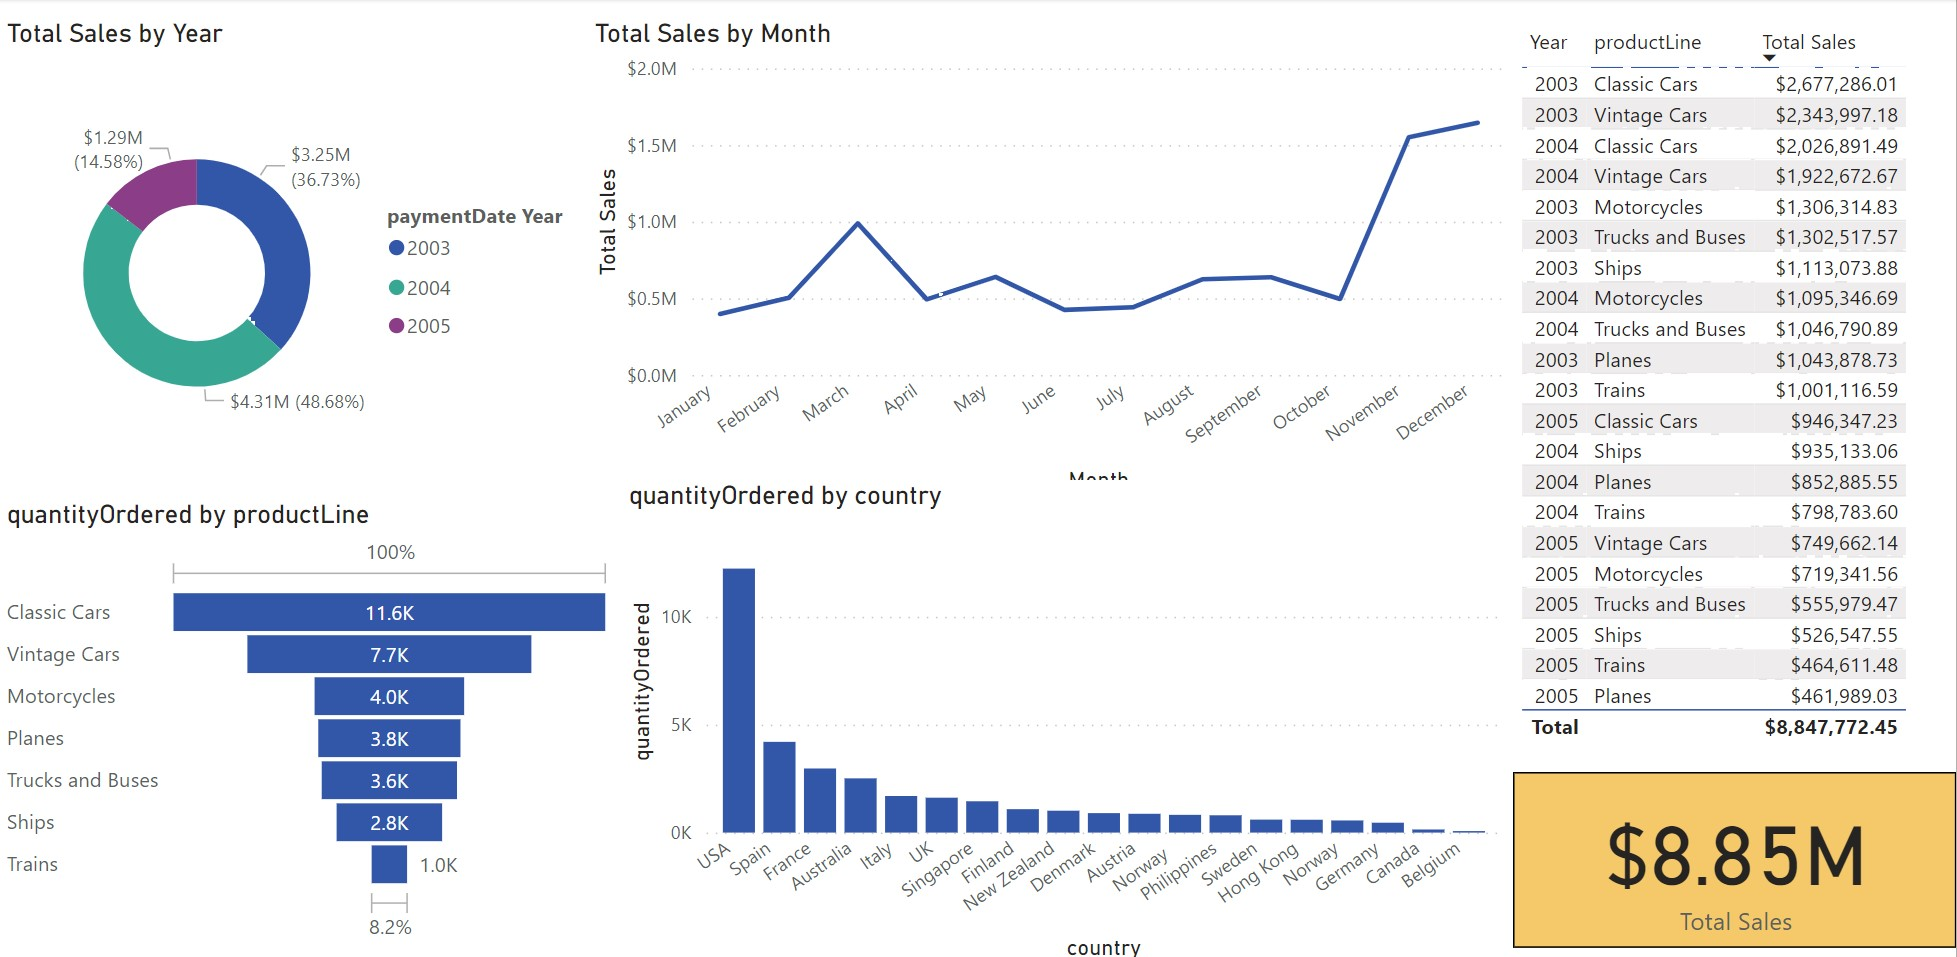

This screenshot's page, from the dashboard's own definition file:
{"tool":"powerbi","page":{"name":"Page 1","canvas":[1280,720],"ordinal":0},"visuals":[{"type":"donutChart","fields":{"Category":["payment.paymentDate.Variation.Date Hierarchy.Year","payment.paymentDate.Variation.Date Hierarchy.Quarter","payment.paymentDate.Variation.Date Hierarchy.Month","payment.paymentDate.Variation.Date Hierarchy.Day"],"Y":["Sum(payment.amount)"]},"box":[0,12.4,381.8,314.5],"z":0},{"type":"lineChart","fields":{"Category":["payment.paymentDate.Variation.Date Hierarchy.Month"],"Y":["Sum(payment.amount)"]},"box":[384.5,12.4,605.7,314.5],"z":1000},{"type":"tableEx","fields":{"Values":["payment.paymentDate.Variation.Date Hierarchy.Year","products.productLine","Sum(payment.amount)"]},"box":[990.2,12.4,289.8,512.3],"z":2000},{"type":"funnel","fields":{"Category":["products.productLine"],"Y":["Sum(ordersdetails.quantityOrdered)"]},"box":[0,326.9,406.5,293.9],"z":3000},{"type":"card","fields":{"Values":["Sum(payment.amount)"]},"box":[990.2,505.4,289.8,115.4],"z":4000},{"type":"clusteredColumnChart","fields":{"Category":["customers.country"],"Y":["Sum(ordersdetails.quantityOrdered)"]},"box":[406.5,314.5,580.9,318.6],"z":6000}]}

Visuals, with their boxes on the page's 1280x720 design canvas (x1, y1, x2, y2). These are canvas units, not pixel positions in the 1957x957 screenshot, which may show the page scaled, cropped or inside an application window:
donutChart - payment.paymentDate.Variation.Date Hierarchy.Year x payment.paymentDate.Variation.Date Hierarchy.Quarter: l=0, t=12, r=382, b=327
lineChart - payment.paymentDate.Variation.Date Hierarchy.Month x Sum(payment.amount): l=384, t=12, r=990, b=327
tableEx - payment.paymentDate.Variation.Date Hierarchy.Year x products.productLine: l=990, t=12, r=1280, b=525
funnel - products.productLine x Sum(ordersdetails.quantityOrdered): l=0, t=327, r=406, b=621
card - Sum(payment.amount): l=990, t=505, r=1280, b=621
clusteredColumnChart - customers.country x Sum(ordersdetails.quantityOrdered): l=406, t=314, r=987, b=633
